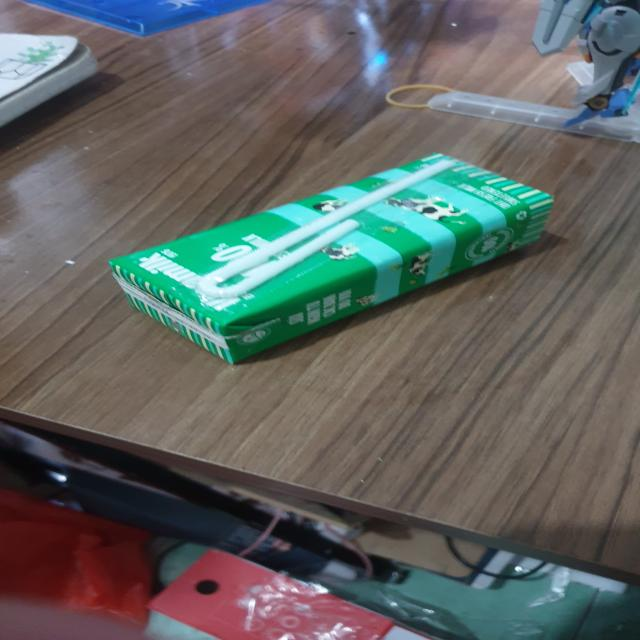Vina: (105, 153, 563, 370)
